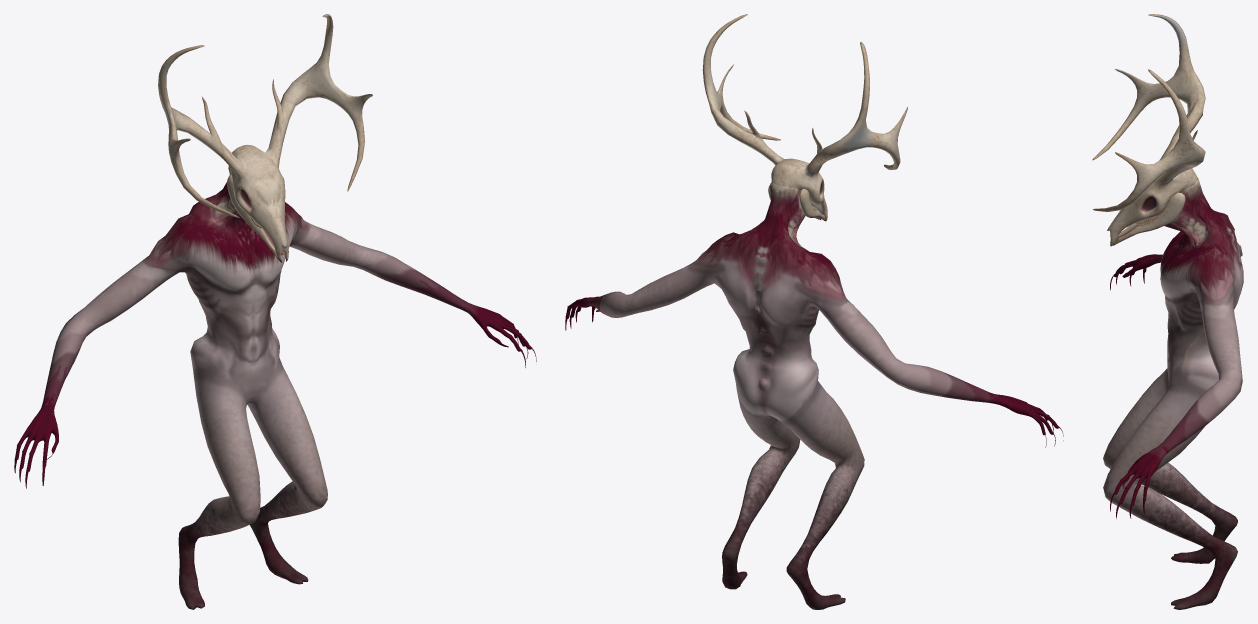
Rendered from Wendigo.FBX.
3 renders of one model, left to right at view 1: azimuth 30°, elevation 25°; view 2: azimuth 150°, elevation 25°; view 3: azimuth 270°, elevation 25°, orthographic. The views are drawn at different scales.
Parts seen in each view (by area): view 1: Body; view 2: Body; view 3: Body.
Part boxes in pixels (x1,y1,x2,y2): Body: (14,14,536,609); Body: (565,14,1063,609); Body: (1092,14,1243,609).
Size of the model in its own units: 145 by 156 by 39.55.
